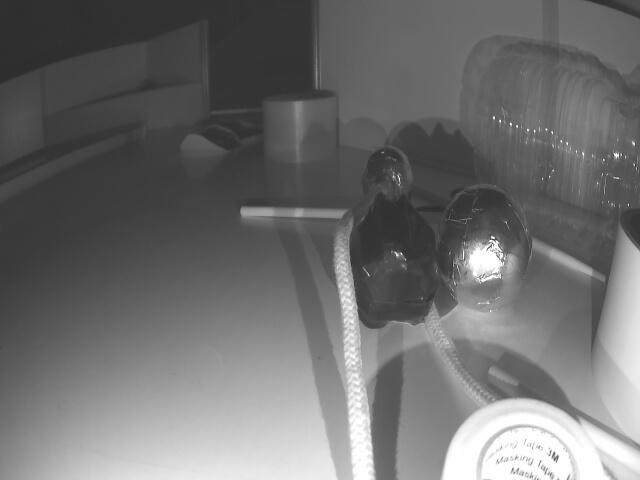Dead: (341, 197, 442, 323)
Live: (440, 182, 533, 308), (367, 142, 411, 202)
